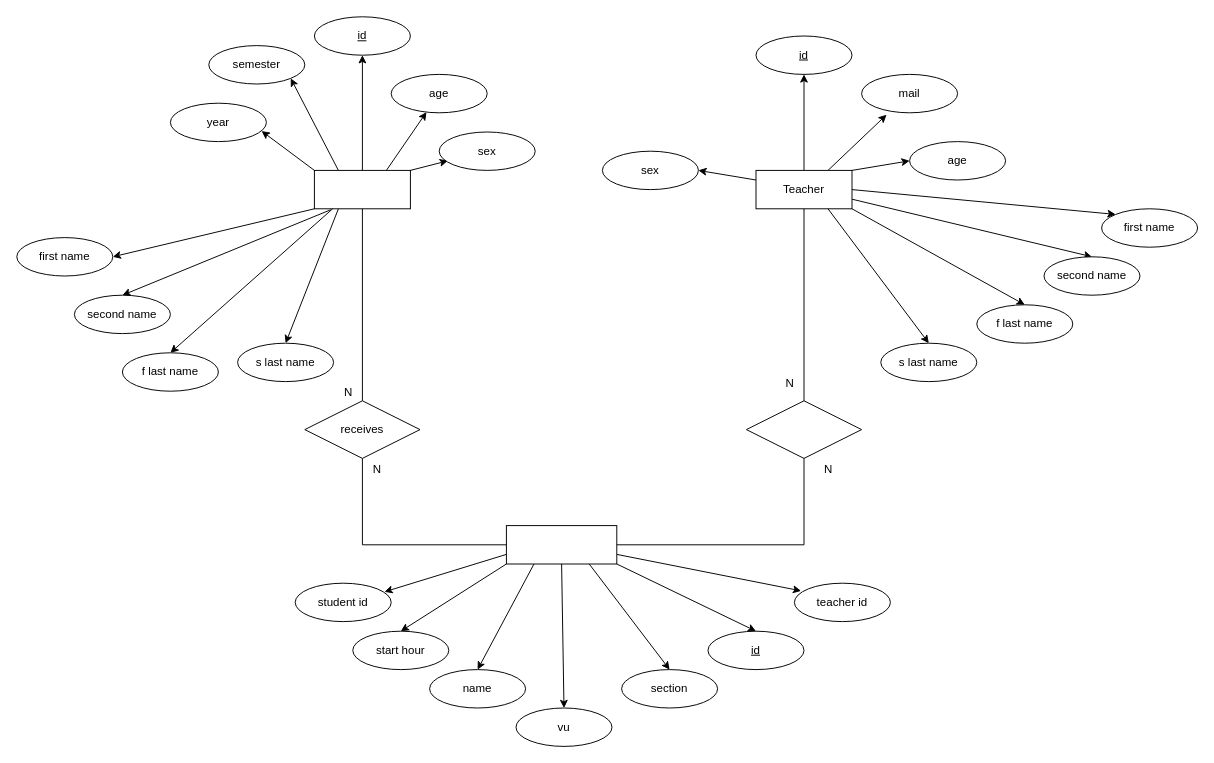
Image size: 1214x763. Some labels were removed from this diagram. Here are the shapes that lost their labels. From the top down, the centre of each, then its label:
At point (361, 189): "Student".
At point (803, 429): "imparts".
At point (561, 544): "Subject".
